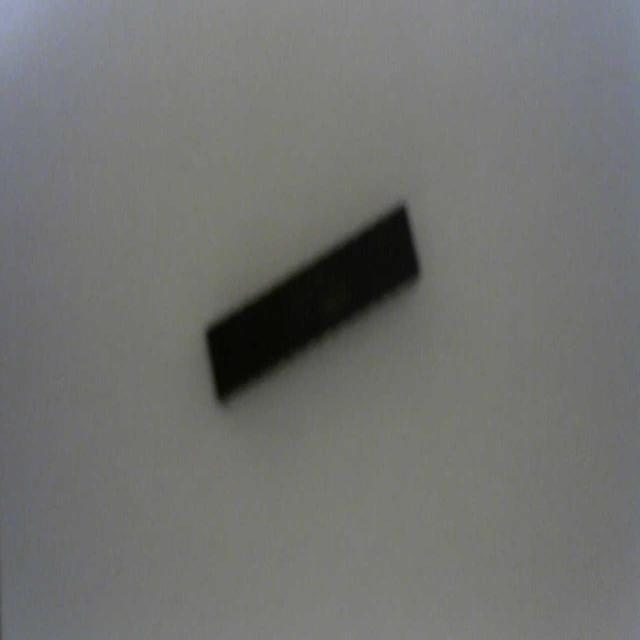atmega: (203, 196, 423, 408)
